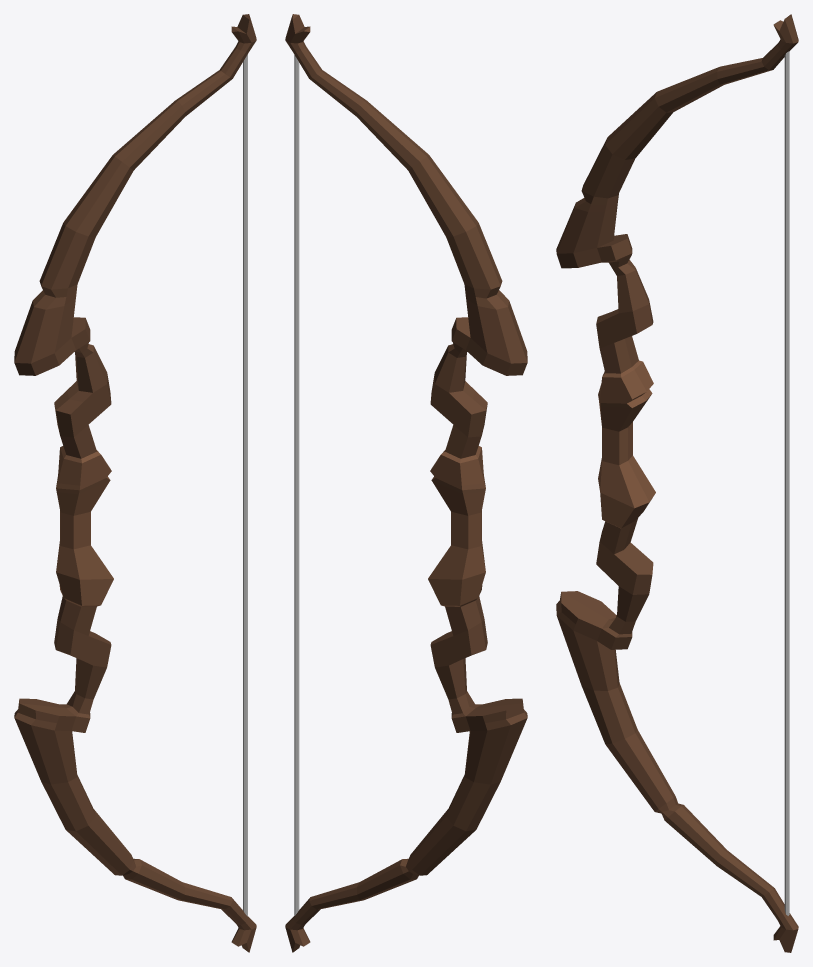
The model's file is Bow_Wooden.glb.
3 renders of one model, left to right at view 1: azimuth 30°, elevation 25°; view 2: azimuth 150°, elevation 25°; view 3: azimuth 330°, elevation 25°, orthographic.
Visible parts, largest first — view 1: Bow_Wooden; view 2: Bow_Wooden; view 3: Bow_Wooden.
Part boxes in pixels (box(x1,y1,x2,y2)): Bow_Wooden: box(14, 14, 256, 952); Bow_Wooden: box(285, 14, 527, 952); Bow_Wooden: box(556, 14, 798, 952).
Bounding box in the file's own units: 1.47 × 5.44 × 0.2434.
